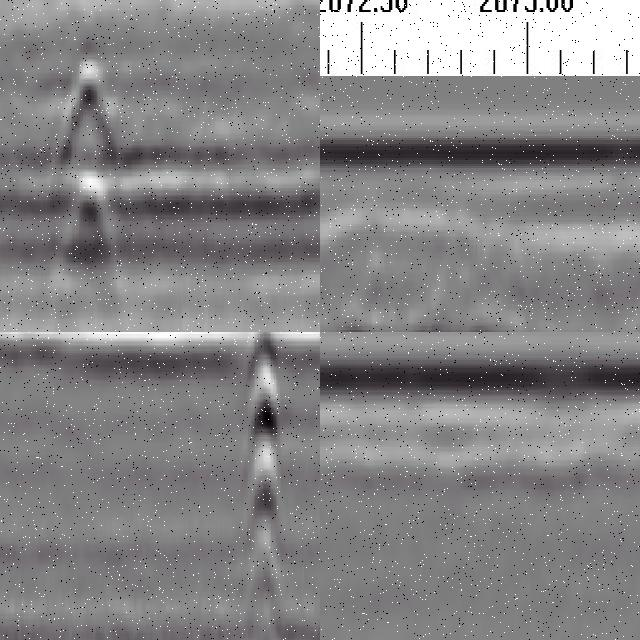crack: (56, 1, 117, 333), (242, 333, 289, 632)
